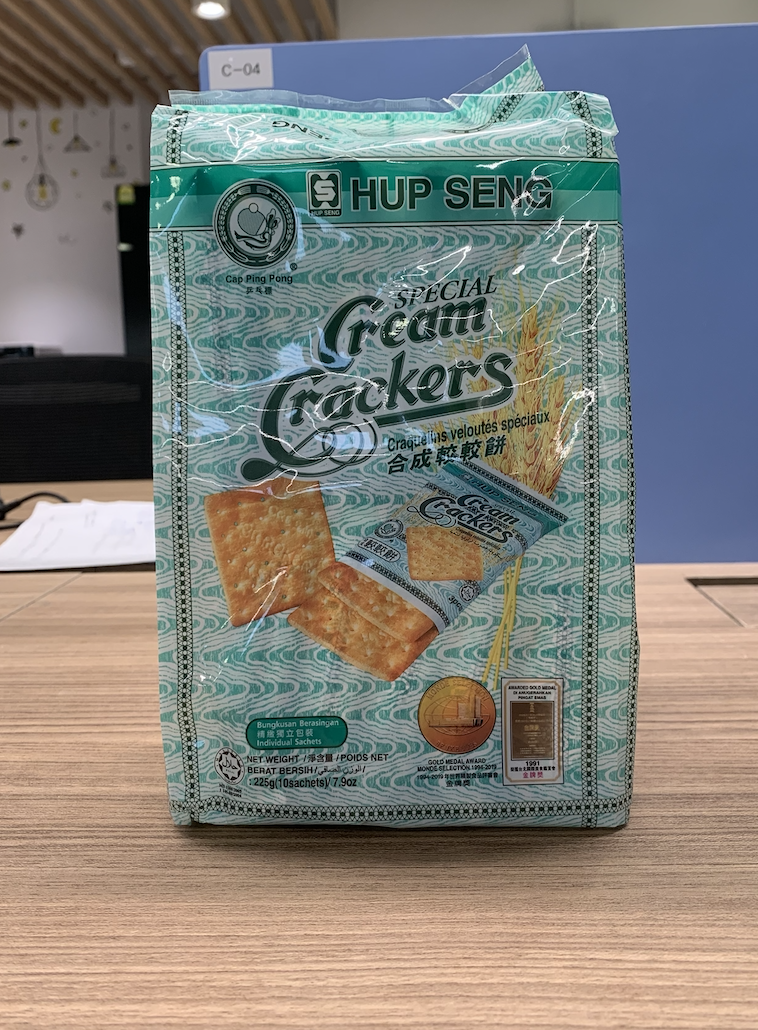halal: (217, 752, 239, 781)
